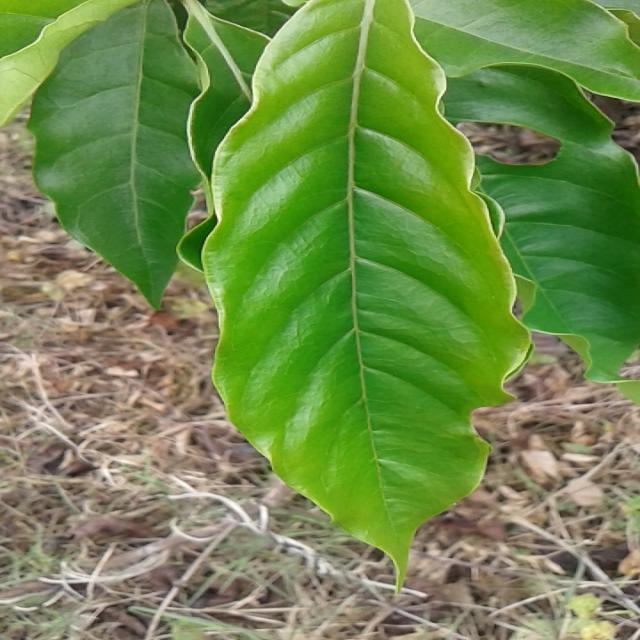Sanas: (211, 0, 533, 555)
